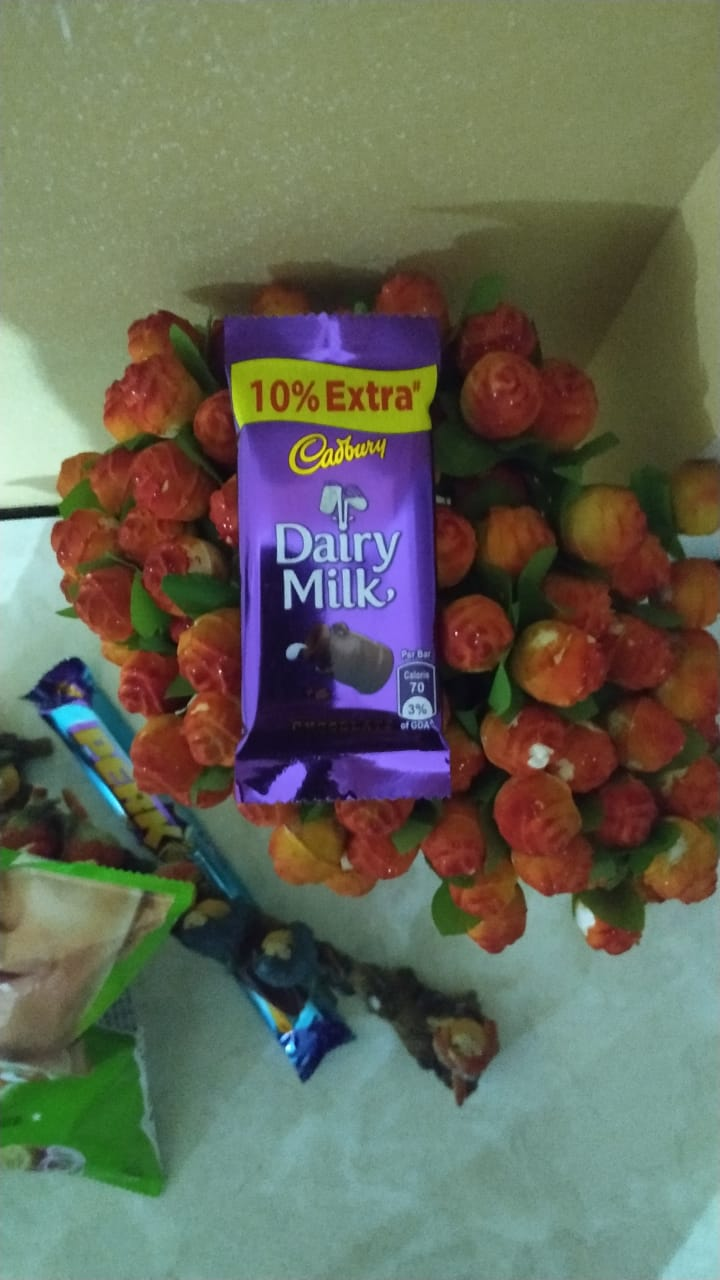dairy milk: (215, 300, 452, 788)
lays chips: (1, 841, 203, 1214)
perk: (31, 663, 327, 1084)
